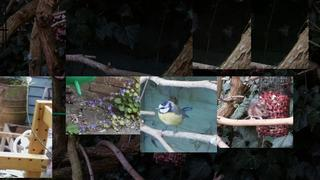blue tit: (155, 100, 193, 137)
mouse: (233, 100, 269, 127)
